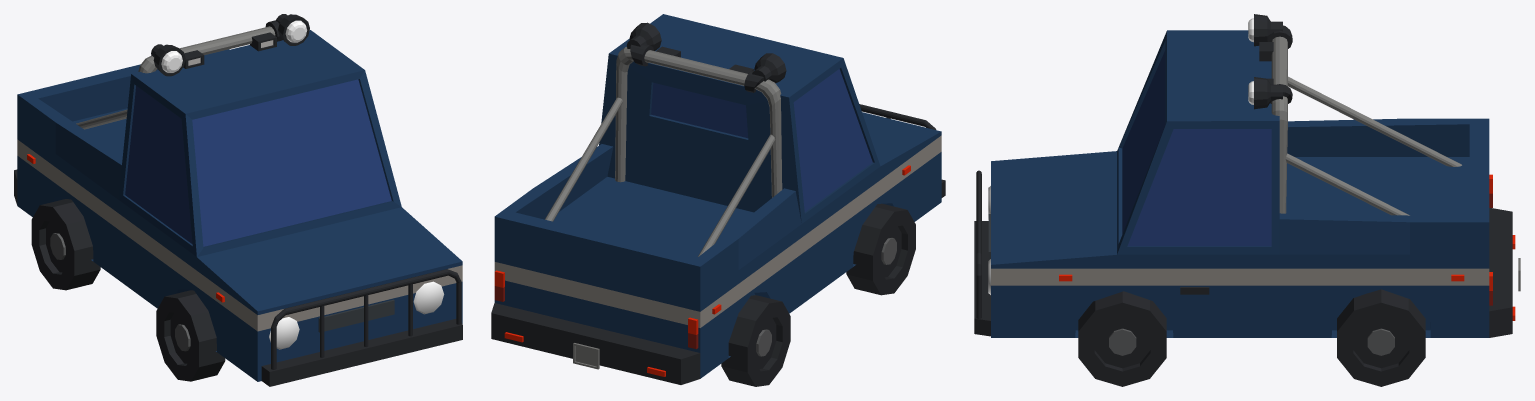
Rendered from Car_5.fbx.
3 renders of one model, left to right at view 1: azimuth 30°, elevation 25°; view 2: azimuth 150°, elevation 25°; view 3: azimuth 270°, elevation 25°, orthographic. The views are drawn at different scales.
Parts seen in each view (by area): view 1: Car_5; view 2: Car_5; view 3: Car_5.
Part boxes in pixels (box(x1,y1,x2,y2)): Car_5: box(14, 14, 462, 386); Car_5: box(491, 14, 945, 386); Car_5: box(974, 14, 1520, 386).
Size of the model in its own units: 178 by 195 by 344.
